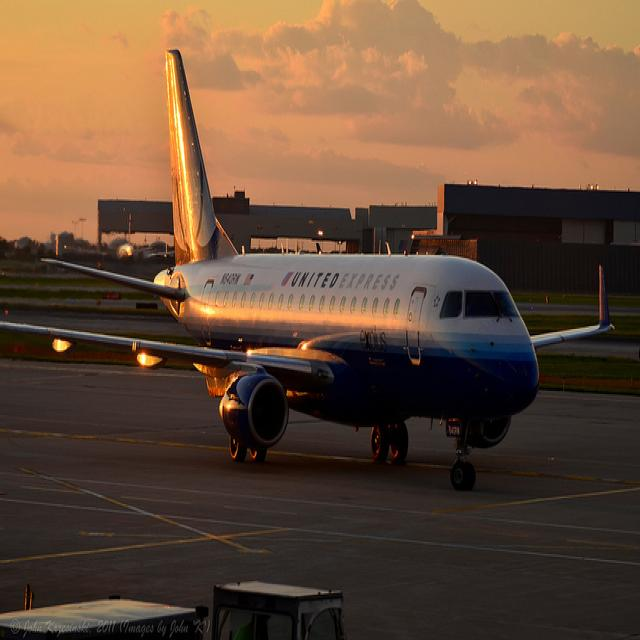Vehicle: (212, 576, 345, 640)
